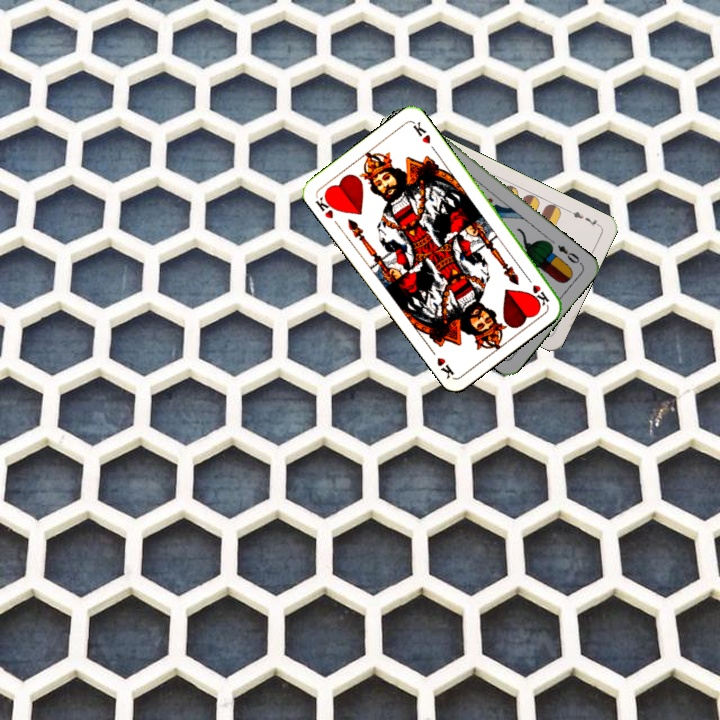E7: (564, 206, 602, 229)
EO: (553, 241, 585, 267)
HK: (521, 271, 552, 308), (311, 189, 340, 221)
